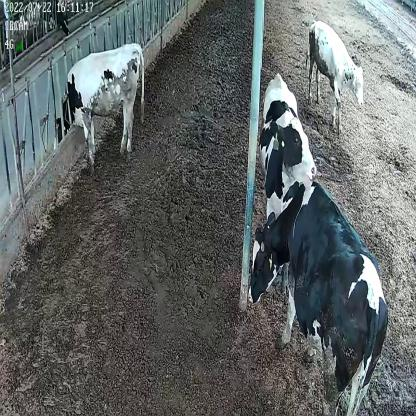cow: (246, 177, 388, 415), (53, 41, 147, 168), (258, 72, 318, 223), (304, 21, 364, 137)
